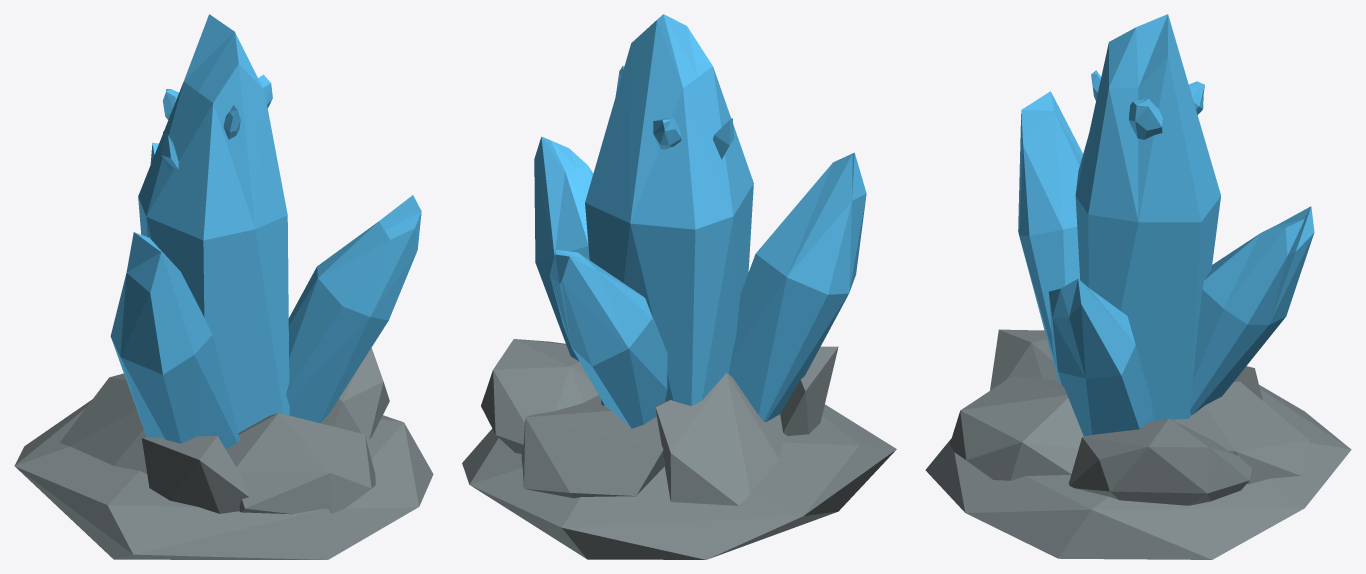
Rendered from Crystal_01.fbx.
3 views of the same model, side by side, from view 1: azimuth 30°, elevation 25°; view 2: azimuth 150°, elevation 25°; view 3: azimuth 270°, elevation 25° (orthographic).
Visible parts, largest first — view 1: Crystal_01; view 2: Crystal_01; view 3: Crystal_01.
Boxes of the visible parts, box(x1,y1,x2,y2) form: Crystal_01: box(14, 14, 433, 559); Crystal_01: box(462, 14, 896, 559); Crystal_01: box(925, 14, 1351, 559).
Bounding box in the file's own units: 51.14 × 70.08 × 55.53.
